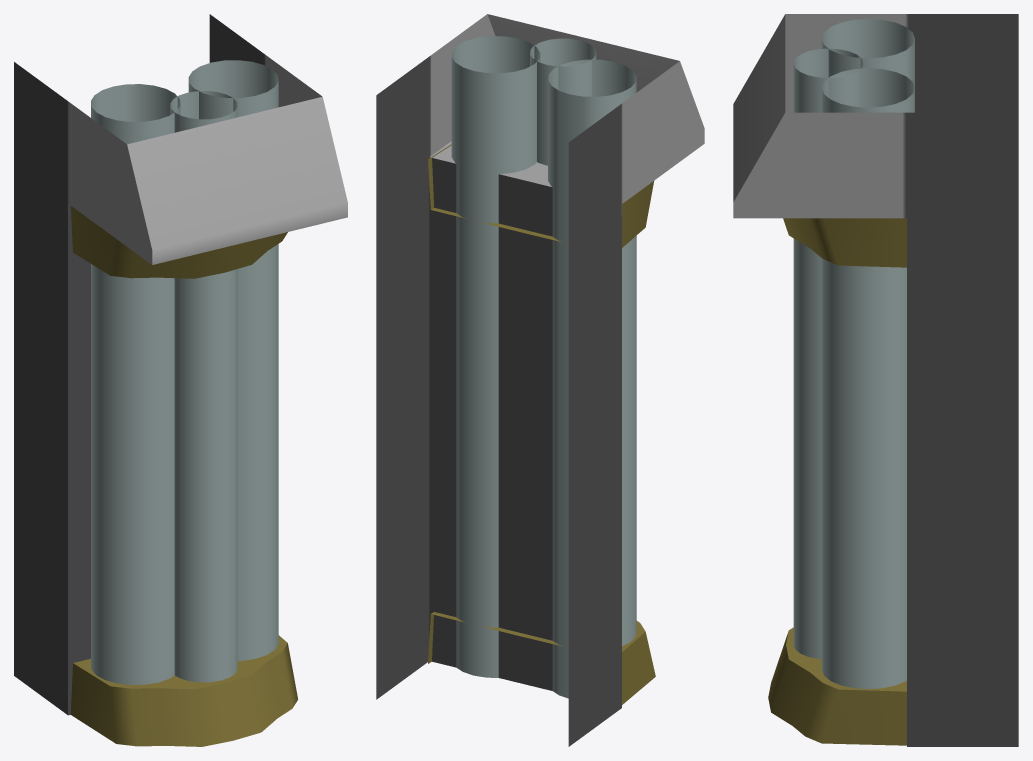
Rendered from Upper Pillar Textured.fbx.
3 renders of one model, left to right at view 1: azimuth 30°, elevation 25°; view 2: azimuth 150°, elevation 25°; view 3: azimuth 270°, elevation 25°, orthographic. The views are drawn at different scales.
Visible parts, largest first — view 1: Upper_Pillar; view 2: Upper_Pillar; view 3: Upper_Pillar.
Boxes of the visible parts, bbox=[...] form: Upper_Pillar: bbox=[14, 14, 347, 746]; Upper_Pillar: bbox=[376, 14, 704, 746]; Upper_Pillar: bbox=[733, 14, 1018, 746].
Size of the model in its own units: 2 by 6 by 2.44.
